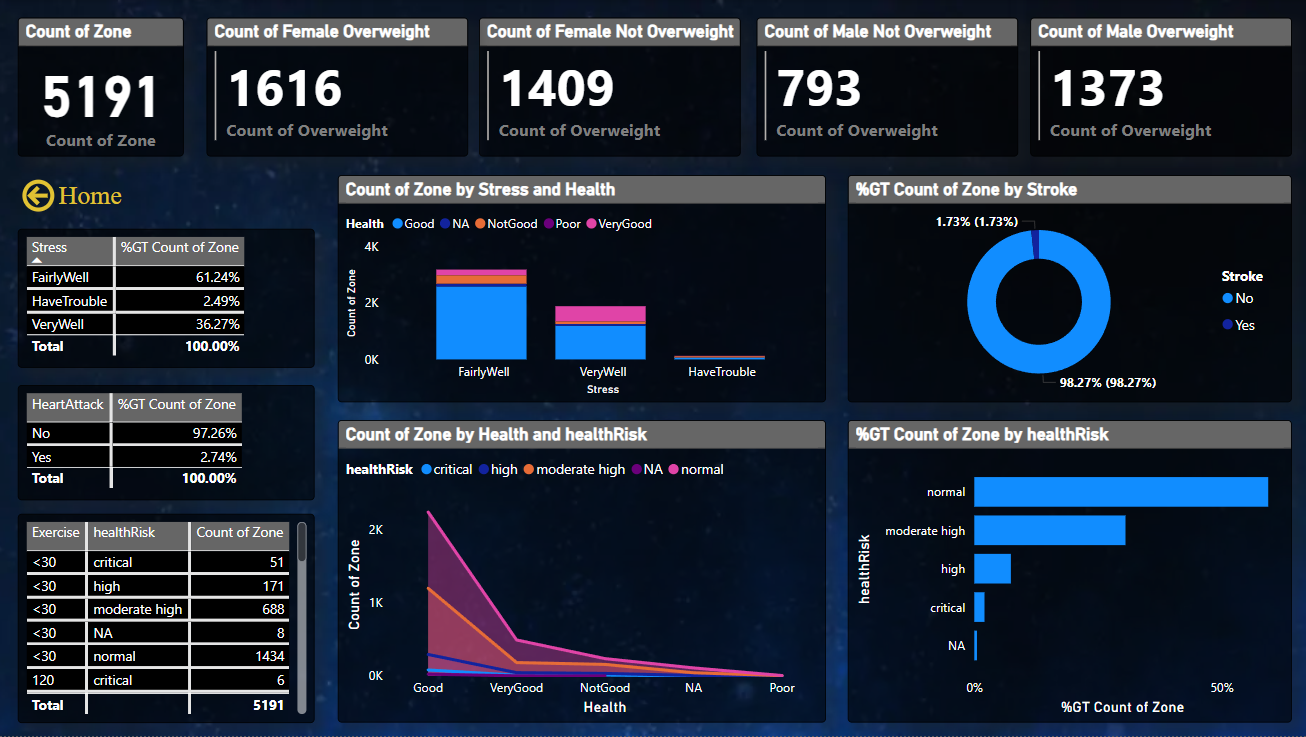

Layout of this report page (visuals, bound fields, positions):
{"tool":"powerbi","page":{"name":"Dashboard","canvas":[1280,720],"ordinal":1},"visuals":[{"type":"multiRowCard","title":"Count of Female Not Overweight","fields":{"Values":["Sample_Data.Overweight"]},"box":[470,16.7,256.3,136.3],"z":0,"group":"g1"},{"type":"card","title":"Count of Zone","fields":{"Values":["CountNonNull(Sample_Data.Zone)"]},"box":[18.1,16.7,162.8,136.3],"z":0},{"type":"multiRowCard","title":"Count of Female Overweight","fields":{"Values":["Sample_Data.Overweight"]},"box":[203.1,16.7,256.3,136.3],"z":1000,"group":"g1"},{"type":"tableEx","fields":{"Values":["Sample_Data.HeartAttack","Sample_Data.Zone"]},"box":[18.1,377,290.8,112.7],"z":1000},{"type":"multiRowCard","title":"Count of Male Not Overweight","fields":{"Values":["Sample_Data.Overweight"]},"box":[741.5,16.7,256.3,136.3],"z":2000,"group":"g1"},{"type":"tableEx","fields":{"Values":["Sample_Data.Stress","Sample_Data.Zone"]},"box":[18.1,224,290.8,136.3],"z":2000},{"type":"multiRowCard","title":"Count of Male Overweight","fields":{"Values":["Sample_Data.Overweight"]},"box":[1008.3,16.7,256.3,136.3],"z":3000,"group":"g1"},{"type":"group","id":"g1","title":"Group 1","box":[203.1,16.7,1061.6,136.3],"z":3000},{"type":"tableEx","fields":{"Values":["Sample_Data.Exercise","Sample_Data.healthRisk","Sample_Data.Zone"]},"box":[18.1,502.3,290.8,204.5],"z":4000},{"type":"barChart","fields":{"Y":["CountNonNull(Sample_Data.Zone)"],"Category":["Sample_Data.healthRisk"]},"box":[830.6,410.4,434.1,296.3],"z":5000},{"type":"areaChart","fields":{"Y":["CountNonNull(Sample_Data.Zone)"],"Category":["Sample_Data.Health"],"Series":["Sample_Data.healthRisk"]},"box":[331.1,410.4,477.2,296.3],"z":6000},{"type":"donutChart","fields":{"Y":["CountNonNull(Sample_Data.Zone)"],"Category":["Sample_Data.Stroke"]},"box":[830.6,171.1,434.1,222.6],"z":7000},{"type":"lineStackedColumnComboChart","fields":{"Y":["CountNonNull(Sample_Data.Zone)"],"Category":["Sample_Data.Stress"],"Series":["Sample_Data.Health"]},"box":[331.1,171.1,477.2,222.6],"z":8000},{"type":"actionButton","box":[18.1,171.1,105.7,40.3],"z":9000}]}

Visuals, with their boxes in screenshot pixels (x1, y1, x2, y2), scaled from the page's 1280x720 canvas onto the 1306x737 screenshot:
"Count of Female Not Overweight" multiRowCard: [480, 17, 741, 157]
"Count of Zone" card: [18, 17, 185, 157]
"Count of Female Overweight" multiRowCard: [207, 17, 469, 157]
tableEx - Sample_Data.HeartAttack x Sample_Data.Zone: [18, 386, 315, 501]
"Count of Male Not Overweight" multiRowCard: [757, 17, 1018, 157]
tableEx - Sample_Data.Stress x Sample_Data.Zone: [18, 229, 315, 369]
"Count of Male Overweight" multiRowCard: [1029, 17, 1290, 157]
"Group 1" group: [207, 17, 1290, 157]
tableEx - Sample_Data.Exercise x Sample_Data.healthRisk: [18, 514, 315, 723]
barChart - CountNonNull(Sample_Data.Zone) x Sample_Data.healthRisk: [847, 420, 1290, 723]
areaChart - CountNonNull(Sample_Data.Zone) x Sample_Data.Health: [338, 420, 825, 723]
donutChart - CountNonNull(Sample_Data.Zone) x Sample_Data.Stroke: [847, 175, 1290, 403]
lineStackedColumnComboChart - CountNonNull(Sample_Data.Zone) x Sample_Data.Stress: [338, 175, 825, 403]
actionButton: [18, 175, 126, 216]
